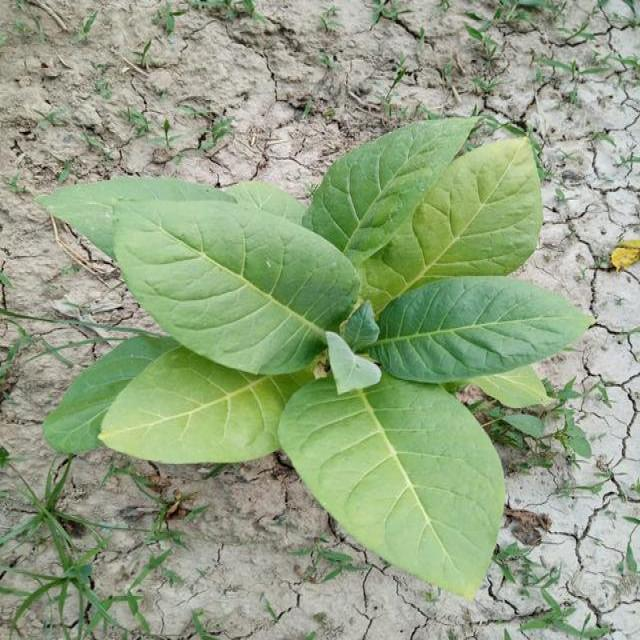crop: (35, 124, 582, 585)
